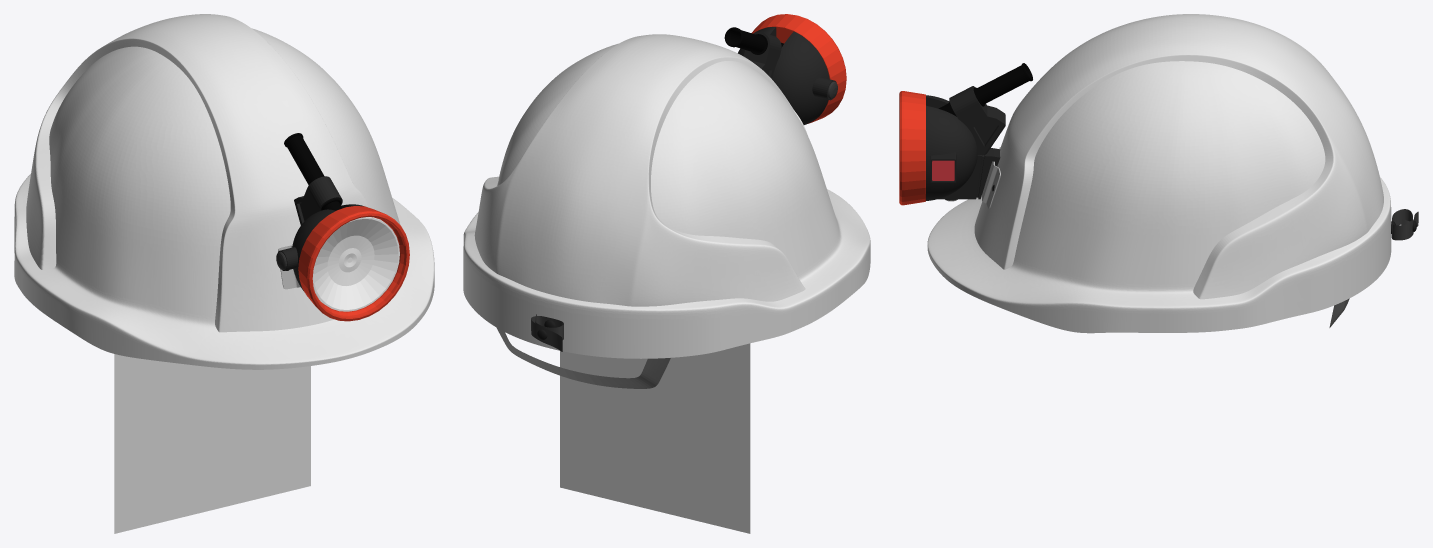
File: Kasket+Fener.fbx
3 renders of one model, left to right at view 1: azimuth 30°, elevation 25°; view 2: azimuth 150°, elevation 25°; view 3: azimuth 270°, elevation 25°, orthographic. The views are drawn at different scales.
Visible parts, largest first — view 1: Kasket, Plane.001; view 2: Kasket, Plane.001; view 3: Kasket.
Part boxes in pixels (<box>): Kasket: <box>14,14,434,369</box>; Plane.001: <box>114,354,310,533</box>; Kasket: <box>463,14,870,388</box>; Plane.001: <box>560,343,750,533</box>; Kasket: <box>899,14,1418,333</box>.
Bounding box in the file's own units: 32.96 × 42.2 × 43.23.
